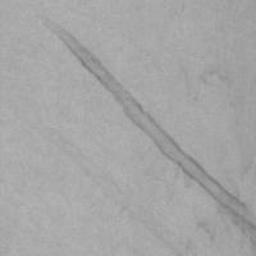Water spot: (41, 15, 256, 256), (41, 125, 205, 256)
